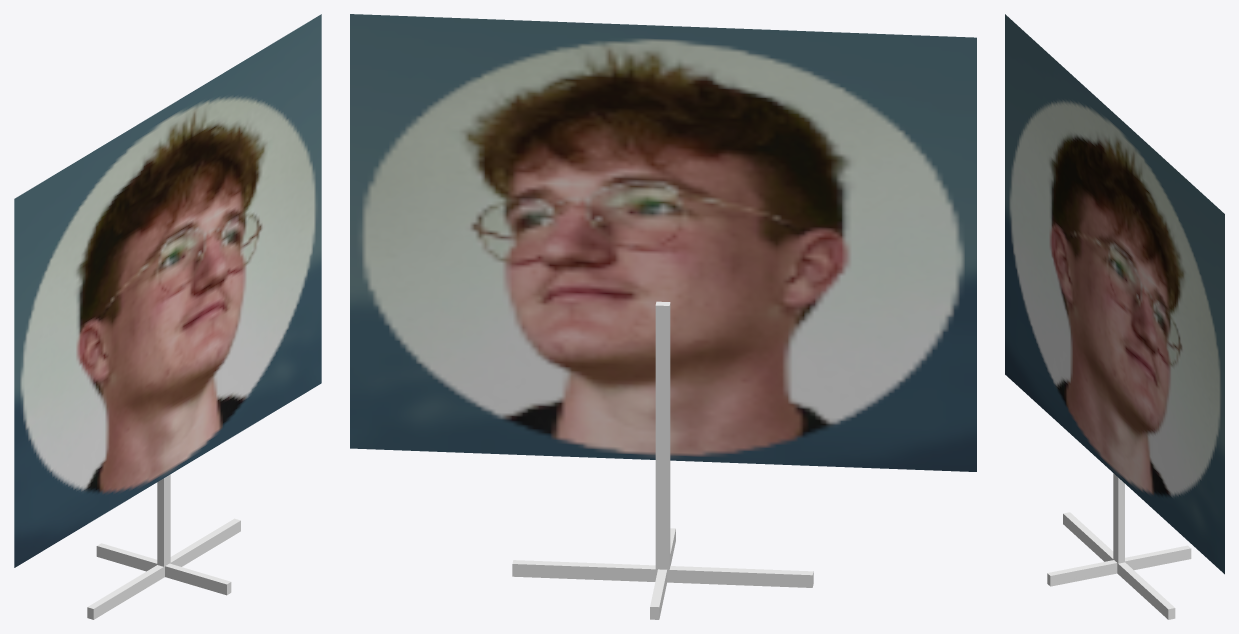
Rendered from tableau.glb.
The picture shows the model from 3 angles, left to right: view 1: azimuth 30°, elevation 25°; view 2: azimuth 150°, elevation 25°; view 3: azimuth 270°, elevation 25°; orthographic projection. The views are drawn at different scales.
Visible parts, largest first — view 1: Cube.006, Cube.004; view 2: Cube.006, Cube.004; view 3: Cube.006, Cube.004.
Boxes of the visible parts, x1,y1,x2,y2 form: Cube.006: (14,14,321,567); Cube.004: (87,474,240,619); Cube.006: (350,14,976,471); Cube.004: (512,301,813,619); Cube.006: (1005,14,1224,574); Cube.004: (1047,473,1191,619).
Size of the model in its own units: 0.1493 by 0.1594 by 0.0693.
2 materials, 1 textured.
